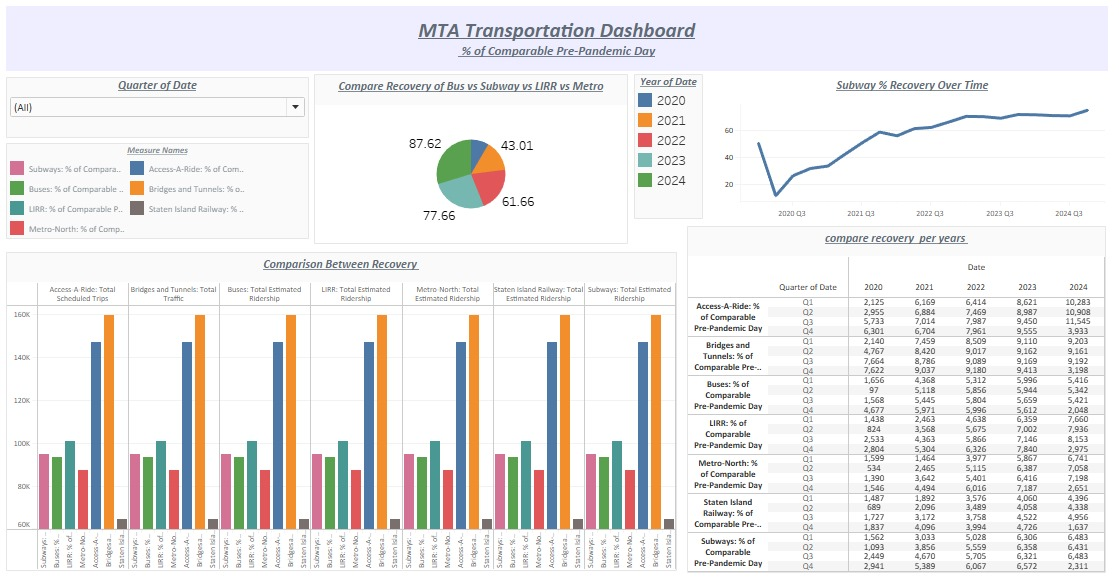

The dashboard page shown, as its layout file describes it:
{"tool":"tableau","page":{"name":"Dashboard 1","canvas":[1000,1000],"units":"permille","ordinal":0},"visuals":[{"type":"title","box":[6.2,9.3,987.5,53.5]},{"type":"filter","title":"Sheet 7","param":"[federated.162o3xp0sq6z6j174cclz0je0ua6].[yr:Date:ok]","box":[479.5,64,472.8,103.7]},{"type":"dashboard-object","box":[0,69.1,14.7,30.7]},{"type":"worksheet","title":"Sheet 8","mark":"Heatmap","rows":[" Total Scheduled Trips"],"cols":[" Total Estimated Ridership"],"box":[34.2,126.8,427.6,445.6]},{"type":"worksheet","title":"Sheet 6","mark":"Bar","rows":["Calculation_747597543879299077"],"cols":["Date"],"box":[489.3,157.5,475.3,398.2]},{"type":"worksheet","title":"Sheet 7","mark":"Automatic","box":[513.1,240.7,332.9,332.9]},{"type":"worksheet","title":"Sheet 2","mark":"Automatic","rows":["Calculation_747597543879299077"],"cols":["Calculation_747597543865004033"],"box":[230.9,583.9,431.9,399.5]},{"type":"dashboard-object","box":[848.5,838.7,62.3,44.8]}]}

Visuals, with their boxes on the dashboard's canvas, which has no fixed pixel size, in thousandths of its width and height (x1, y1, x2, y2). These are canvas units, not pixel positions in the 1119x579 screenshot, which may show the page scaled, cropped or inside an application window:
title: [x1=6, y1=9, x2=994, y2=63]
"Sheet 7" filter: [x1=480, y1=64, x2=952, y2=168]
dashboard-object: [x1=0, y1=69, x2=15, y2=100]
"Sheet 8" worksheet (Heatmap marks): [x1=34, y1=127, x2=462, y2=572]
"Sheet 6" worksheet (Bar marks): [x1=489, y1=158, x2=965, y2=556]
"Sheet 7" worksheet: [x1=513, y1=241, x2=846, y2=574]
"Sheet 2" worksheet: [x1=231, y1=584, x2=663, y2=983]
dashboard-object: [x1=848, y1=839, x2=911, y2=884]
